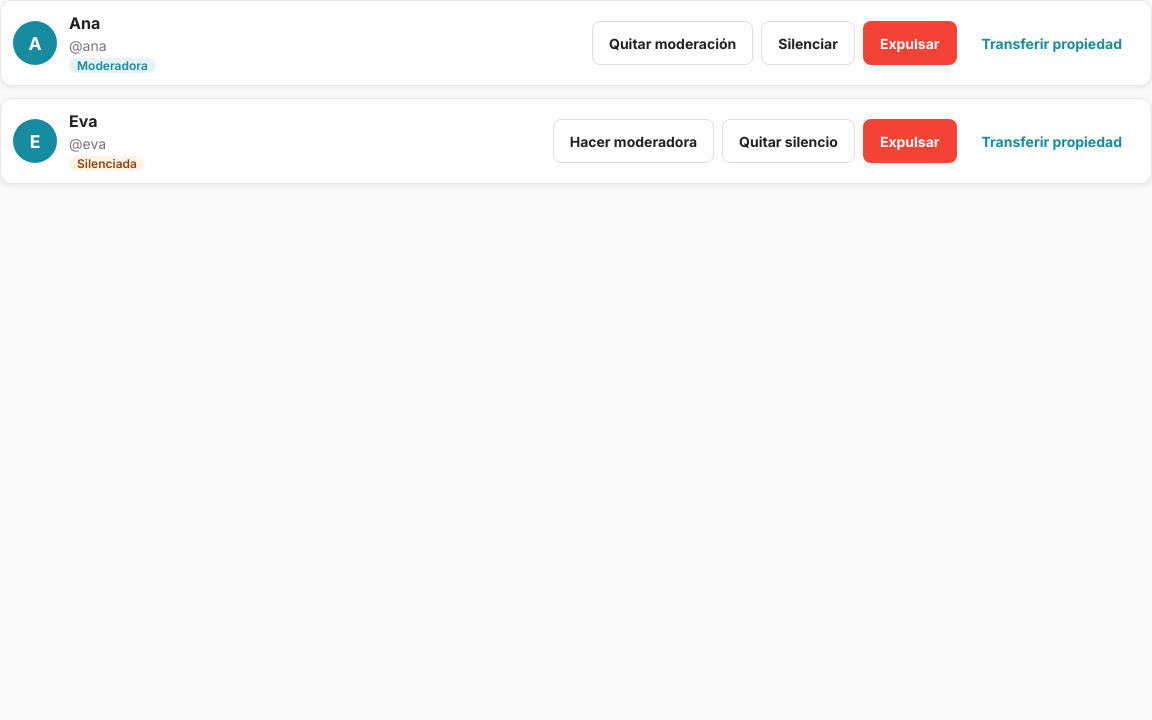
Test case: MemberAdminList › expels with a reason and removes her from the list
This screenshot has width=1152, height=720.
Expected: the text "Eva" is shown, x1=69 y1=111 x2=98 y2=131
Click the button "Expulsar" in the row of "Silenciada" at (910, 141), box x1=863 y1=119 x2=956 y2=163
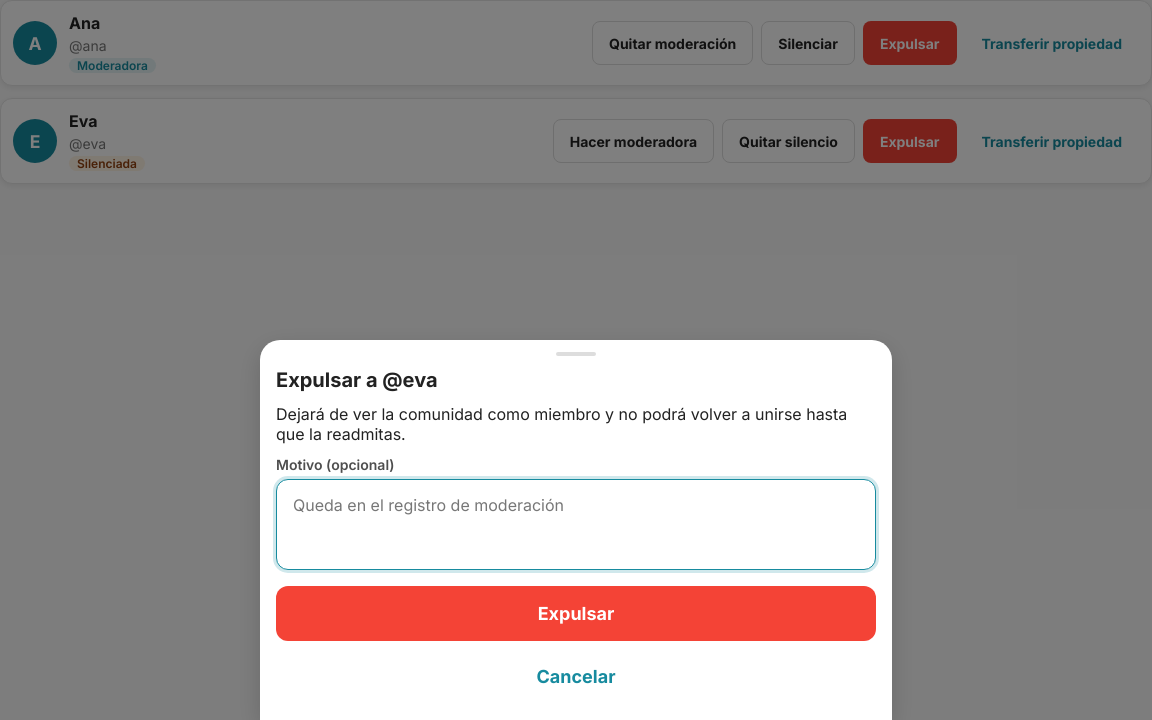
Type "spam" into the text box labelled "Motivo (opcional)" at (576, 525), box x1=277 y1=480 x2=875 y2=569
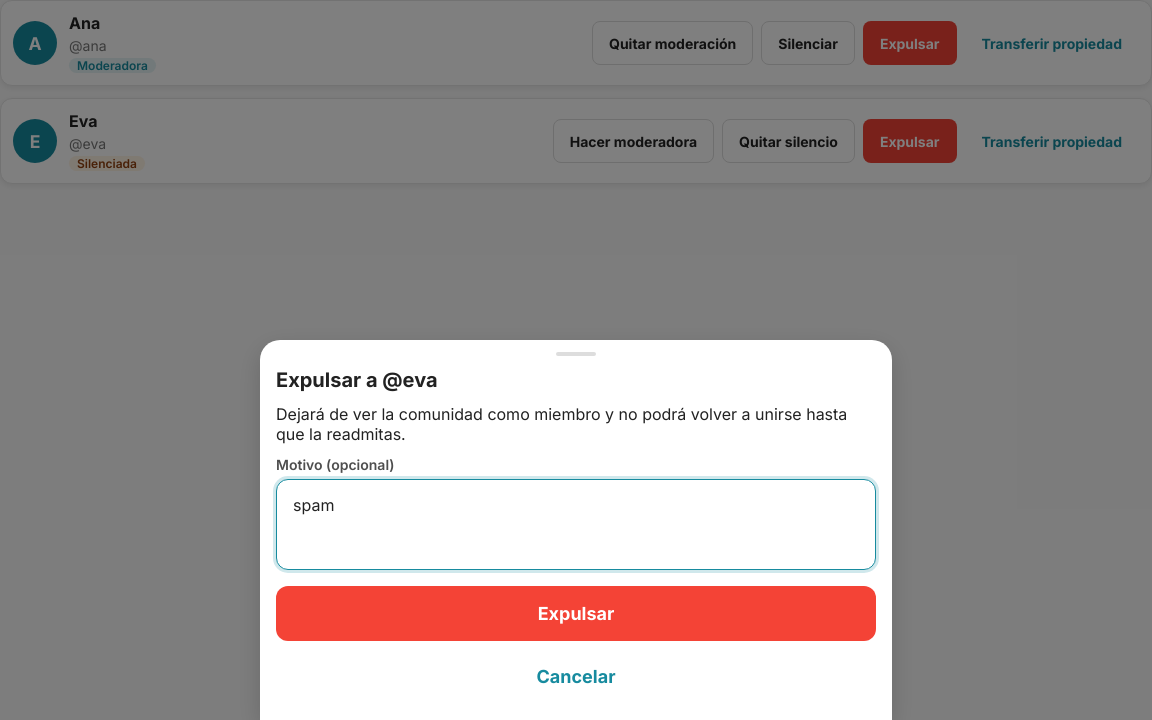
Click the button "Expulsar" at (576, 614), box x1=276 y1=586 x2=876 y2=641
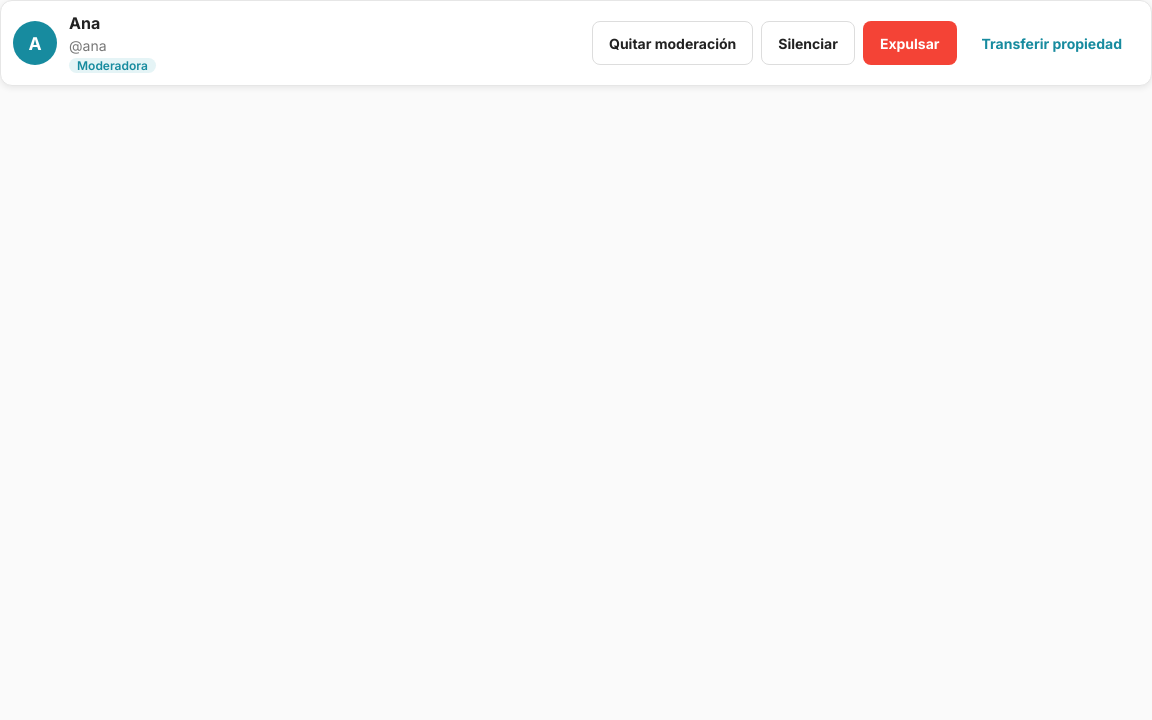
Expected: the text "Eva" is gone
